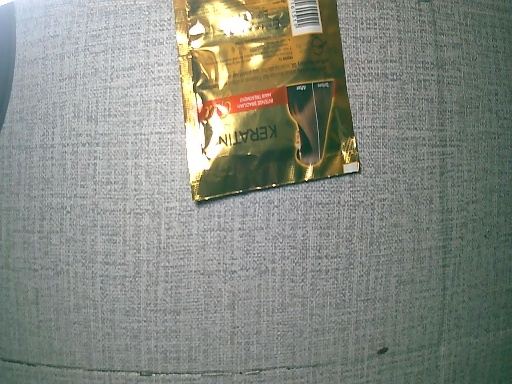plastic: (174, 1, 366, 202)
